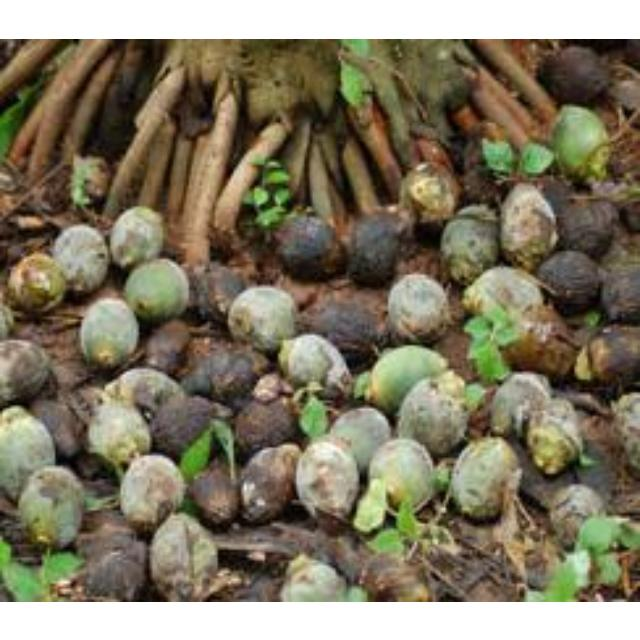damaged: (498, 303, 582, 379), (396, 374, 472, 456), (448, 434, 520, 520), (294, 436, 362, 524), (18, 464, 88, 548), (150, 514, 220, 598), (368, 344, 448, 414), (118, 452, 186, 534), (301, 292, 384, 358), (77, 524, 147, 602), (366, 438, 436, 514), (0, 407, 56, 501), (238, 443, 302, 525), (149, 392, 225, 461), (499, 182, 558, 270), (386, 272, 454, 344), (273, 214, 345, 282), (344, 211, 410, 285), (463, 266, 542, 326), (86, 398, 150, 472), (550, 104, 612, 180), (524, 397, 584, 475), (228, 285, 298, 351), (124, 258, 192, 324), (540, 44, 612, 106), (236, 392, 302, 458), (534, 248, 602, 312), (398, 160, 460, 230), (278, 332, 350, 392), (574, 324, 640, 388), (488, 370, 550, 438), (438, 212, 498, 282), (184, 346, 256, 404), (326, 407, 389, 473), (51, 224, 110, 294), (5, 252, 69, 316), (556, 197, 618, 259), (80, 298, 140, 362), (548, 482, 608, 546), (0, 338, 54, 408), (355, 551, 429, 601), (30, 394, 86, 460), (187, 460, 241, 528), (108, 366, 184, 414), (108, 206, 166, 268), (192, 263, 250, 325), (278, 552, 348, 602), (142, 318, 194, 374), (321, 533, 374, 585), (608, 392, 640, 478), (598, 262, 640, 324), (43, 351, 91, 401), (79, 505, 137, 545), (70, 154, 110, 208), (456, 164, 504, 208), (529, 176, 575, 220), (460, 132, 504, 178)
